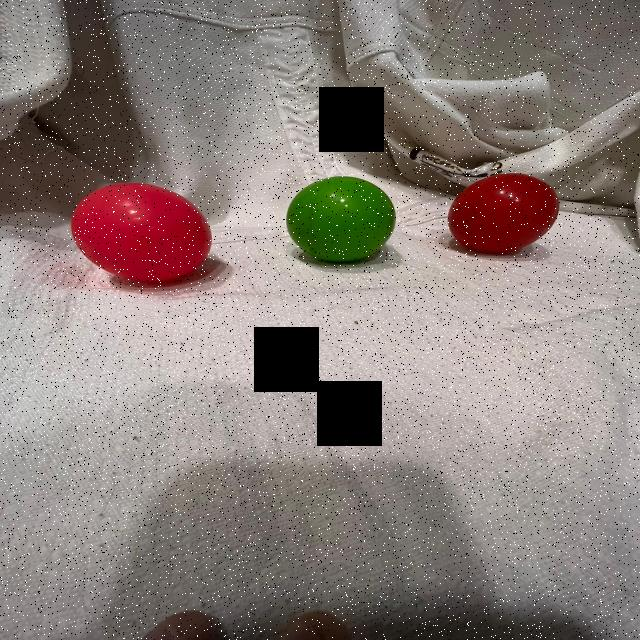ball: (67, 179, 216, 285), (444, 169, 562, 257), (284, 174, 399, 264)
